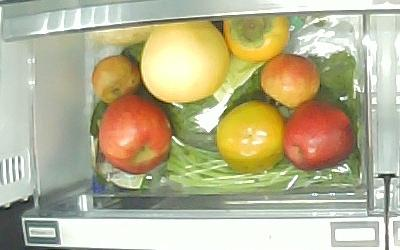apple: (99, 95, 174, 175), (284, 100, 354, 172)
grapefruit: (140, 21, 231, 104)
persimmon: (216, 100, 285, 173), (224, 15, 290, 62)
prune: (261, 53, 320, 108), (92, 55, 143, 105)
